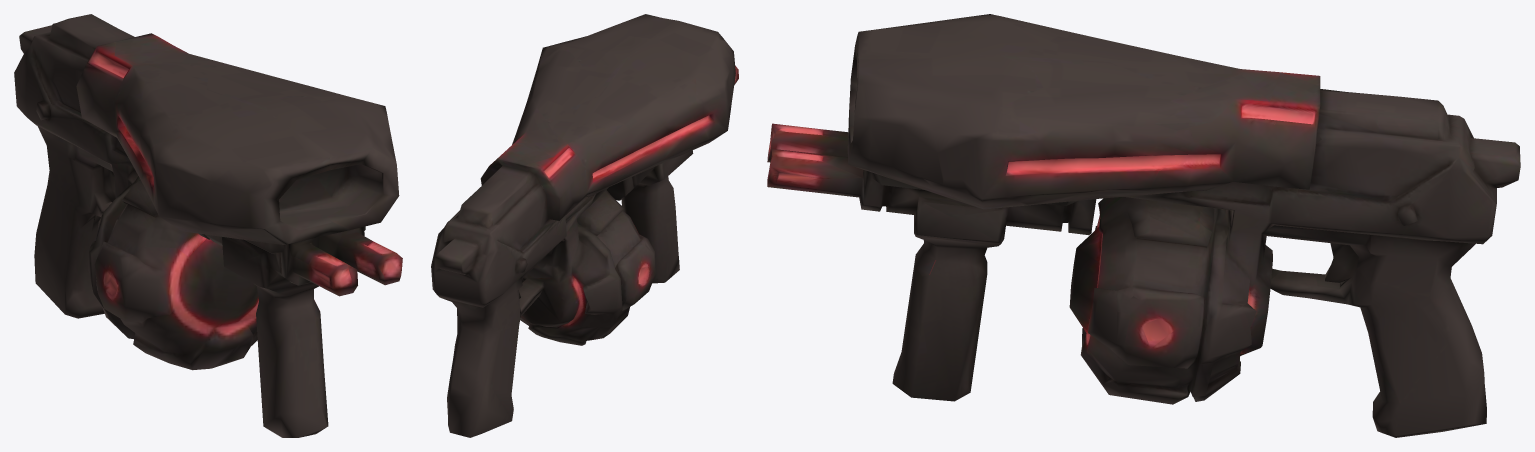
Rendered from web.glb.
3 views of the same model, side by side, from view 1: azimuth 30°, elevation 25°; view 2: azimuth 150°, elevation 25°; view 3: azimuth 270°, elevation 25° (orthographic). The views are drawn at different scales.
Parts seen in each view (by area): view 1: web; view 2: web; view 3: web.
Boxes of the visible parts, x1=… form: web: x1=14, y1=14, x2=402, y2=437; web: x1=431, y1=14, x2=738, y2=437; web: x1=767, y1=14, x2=1520, y2=437.
Bounding box in the file's own units: 0.1921 × 0.2645 × 0.482.
Materials: 1 (1 with a texture image).
